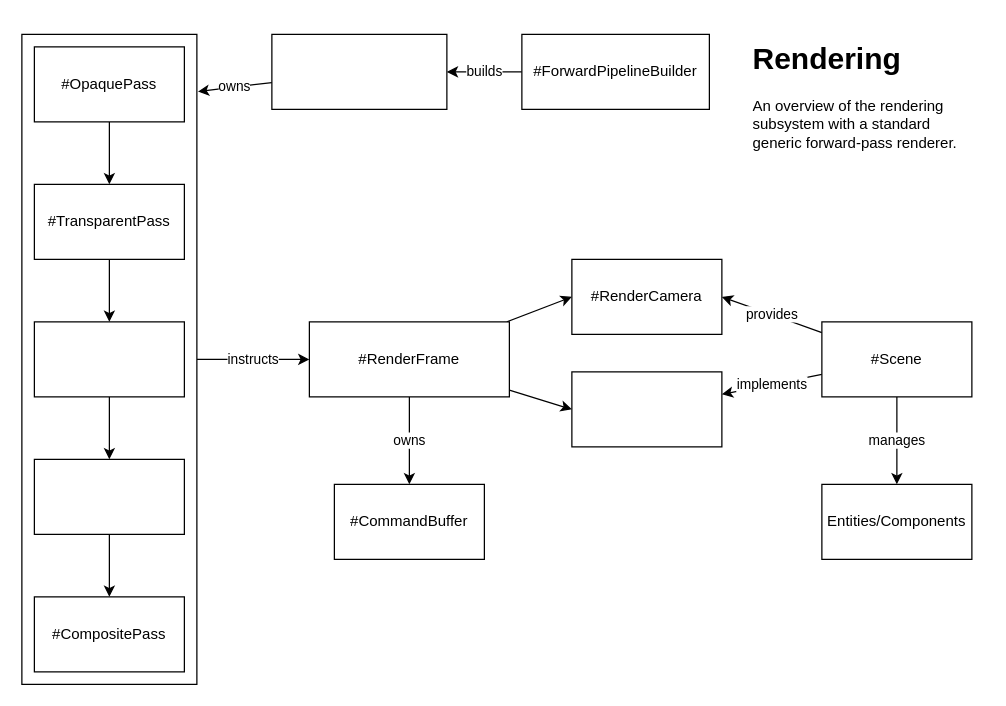
This 1006x706 diagram has some shape labels left out. Each missing label, with the centre of its shape:
"#PostEffectPass" goes at point (108, 496).
"#RenderPipeline" goes at point (359, 71).
"#RenderScene" goes at point (646, 409).
"#ScreenGrabPass" goes at point (108, 359).
